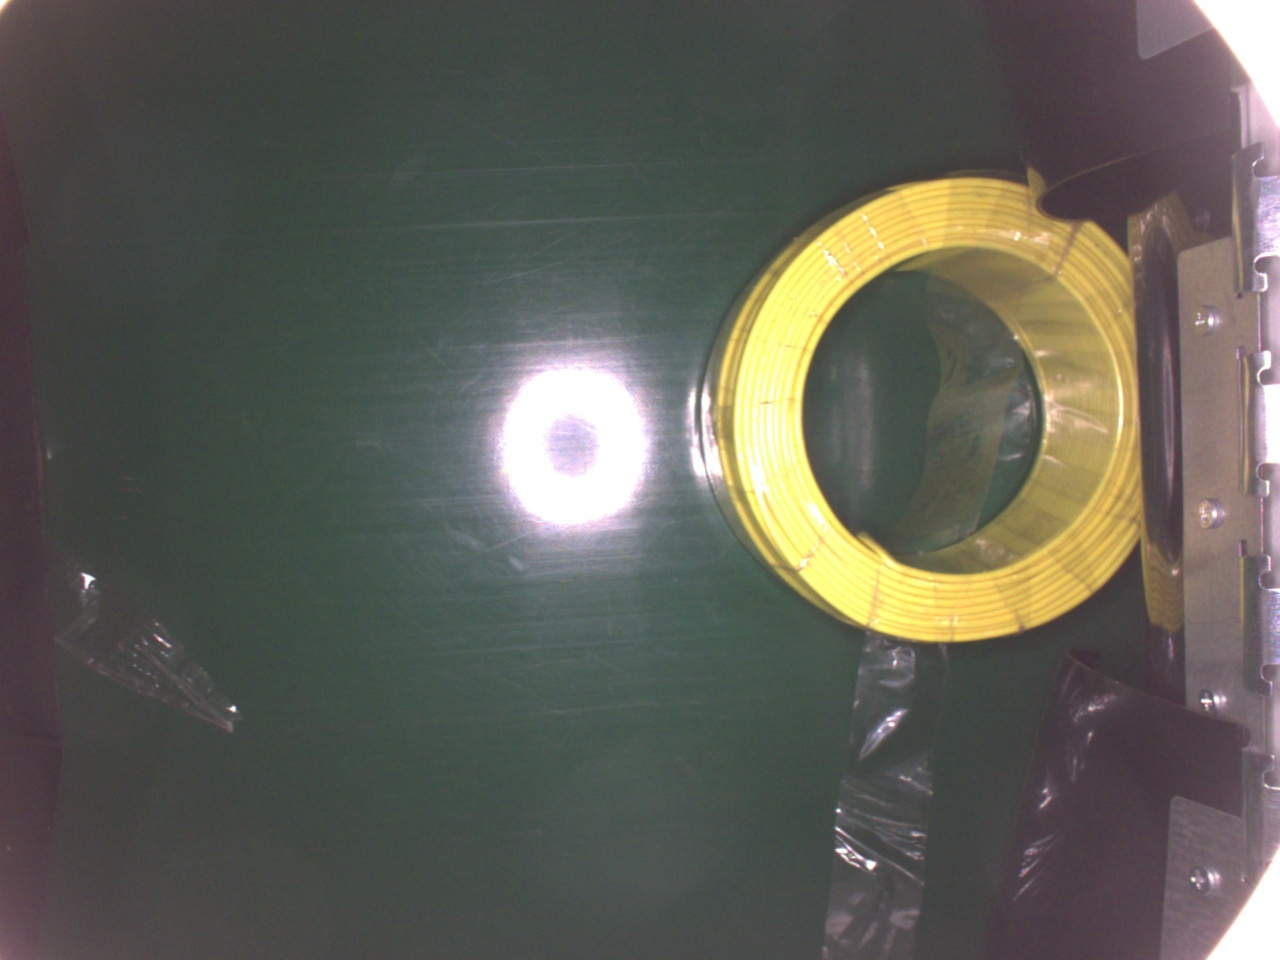yellow: (696, 173, 1141, 642)
